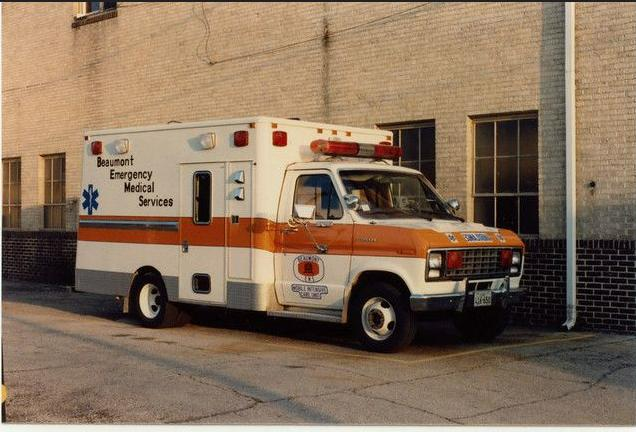ambulance_off: (73, 117, 525, 354)
